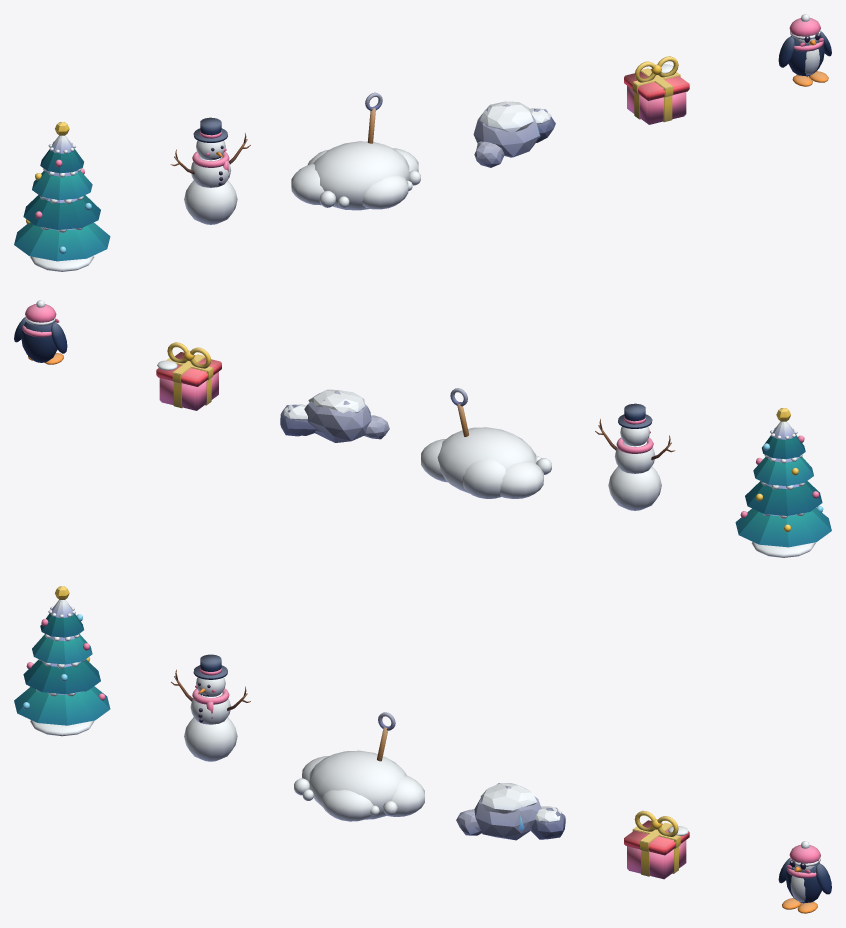
The model's file is SnowProps.fbx.
The picture shows the model from 3 angles, top to bottom: view 1: azimuth 30°, elevation 25°; view 2: azimuth 150°, elevation 25°; view 3: azimuth 330°, elevation 25°; orthographic projection.
Visible parts, largest first — view 1: SnowPine, SnowMound, Snowman, IceRock, Present, Penguin; view 2: SnowPine, SnowMound, Snowman, IceRock, Present, Penguin; view 3: SnowPine, SnowMound, IceRock, Snowman, Present, Penguin.
Part boxes in pixels (<box>): SnowPine: <box>14,122,110,271</box>; SnowMound: <box>291,92,420,210</box>; Snowman: <box>170,117,250,224</box>; IceRock: <box>473,101,555,167</box>; Present: <box>624,56,689,124</box>; Penguin: <box>778,14,831,86</box>; SnowPine: <box>735,408,831,557</box>; SnowMound: <box>421,388,551,498</box>; Snowman: <box>595,403,675,510</box>; IceRock: <box>280,389,389,442</box>; Present: <box>156,342,221,410</box>; Penguin: <box>14,300,67,364</box>; SnowPine: <box>14,586,110,736</box>; SnowMound: <box>294,712,424,821</box>; IceRock: <box>456,783,565,840</box>; Snowman: <box>171,654,250,761</box>; Present: <box>624,810,689,879</box>; Penguin: <box>778,841,831,913</box>.
Size of the model in its own units: 87.09 by 15.9 by 9.83.
1 material, 1 textured.
